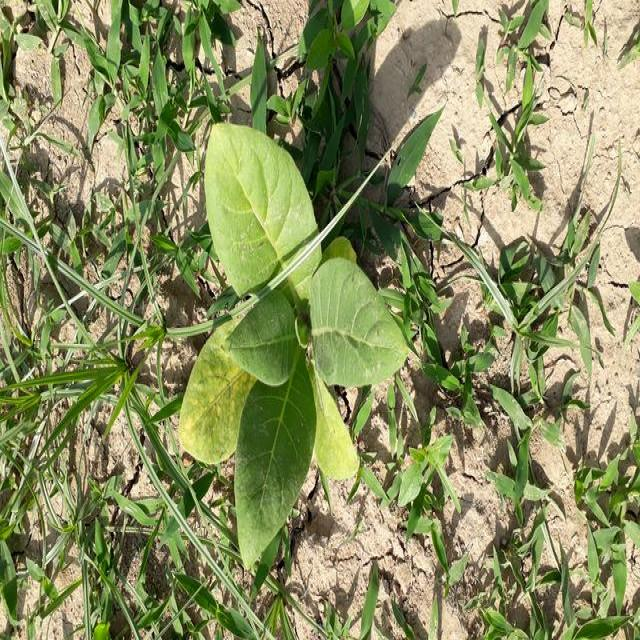crop: (182, 127, 407, 557)
